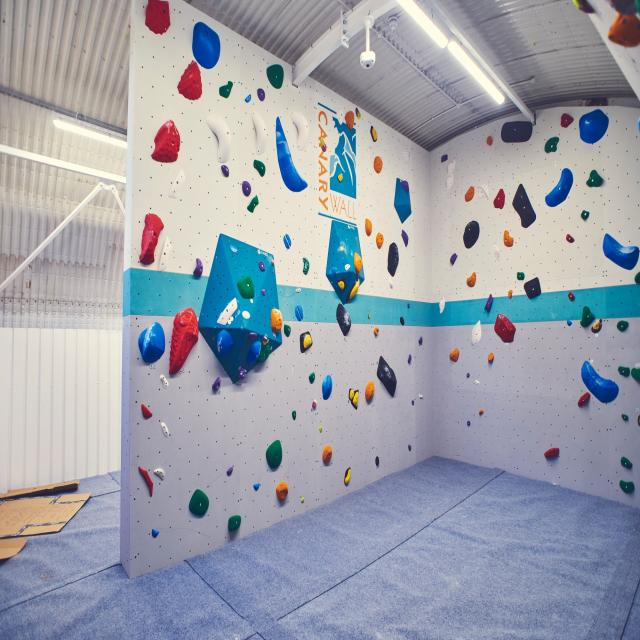hold: (276, 116, 308, 192), (169, 307, 199, 375), (581, 360, 619, 403), (602, 233, 639, 270), (192, 22, 220, 69), (139, 214, 164, 266), (150, 120, 180, 163), (206, 114, 231, 163), (545, 169, 574, 208), (138, 322, 165, 363), (512, 183, 536, 229), (607, 13, 639, 47), (177, 59, 202, 101), (579, 109, 609, 144), (376, 355, 397, 398), (145, 0, 170, 36), (289, 111, 309, 151), (395, 177, 411, 225), (500, 120, 533, 143), (251, 112, 266, 155), (494, 314, 516, 343), (216, 297, 238, 325), (188, 489, 209, 517), (168, 169, 187, 199), (157, 235, 172, 272), (265, 439, 282, 470), (336, 303, 351, 337), (463, 220, 480, 249), (216, 330, 234, 356), (138, 466, 153, 497), (236, 275, 255, 299), (266, 64, 284, 89), (609, 0, 638, 15), (387, 242, 399, 278), (524, 276, 542, 300), (580, 305, 596, 328), (246, 341, 261, 365), (270, 308, 283, 334), (346, 277, 360, 301), (572, 0, 596, 14), (586, 169, 603, 187), (300, 331, 313, 354), (544, 136, 560, 154), (471, 320, 482, 346), (276, 481, 289, 502), (493, 189, 505, 210), (322, 375, 332, 400), (253, 159, 266, 178), (219, 81, 233, 98), (353, 252, 363, 275), (247, 194, 259, 213), (619, 480, 635, 494), (258, 345, 270, 363), (365, 381, 375, 402), (560, 113, 574, 128), (228, 515, 241, 531), (484, 293, 494, 313), (193, 258, 203, 278), (345, 110, 355, 130), (578, 391, 590, 407), (477, 184, 489, 200), (591, 318, 603, 334), (373, 155, 383, 174), (503, 230, 514, 247), (620, 456, 633, 470), (446, 158, 456, 176), (322, 445, 332, 463), (464, 186, 475, 202), (449, 347, 460, 363), (351, 389, 359, 411), (141, 404, 152, 419), (466, 272, 476, 288), (616, 320, 629, 332), (618, 365, 630, 378), (375, 232, 384, 249), (401, 229, 409, 248), (544, 448, 559, 458), (446, 173, 454, 191), (302, 257, 310, 275), (242, 181, 251, 197), (212, 376, 221, 392), (154, 468, 165, 481), (161, 421, 169, 438), (160, 374, 169, 389), (365, 218, 372, 237), (344, 467, 351, 486), (630, 367, 639, 381), (493, 244, 500, 261), (370, 126, 377, 143), (320, 136, 327, 153), (238, 367, 247, 380), (296, 304, 303, 320), (401, 180, 409, 194), (580, 210, 590, 221), (221, 165, 230, 177), (450, 253, 458, 266), (257, 88, 265, 101), (402, 150, 411, 161), (151, 528, 160, 539), (283, 235, 290, 249), (284, 324, 291, 338), (439, 298, 445, 314), (308, 372, 316, 384), (295, 306, 301, 321), (566, 234, 575, 243), (516, 272, 525, 281), (285, 234, 291, 247), (348, 388, 354, 401), (355, 107, 361, 120), (258, 261, 265, 272), (242, 311, 251, 319), (249, 332, 257, 341), (634, 271, 639, 285), (226, 466, 233, 476), (486, 136, 493, 146), (338, 280, 345, 290), (568, 292, 575, 301), (244, 94, 251, 103), (441, 154, 448, 163), (488, 352, 494, 362), (337, 173, 343, 183), (262, 336, 268, 346), (621, 414, 629, 421), (253, 483, 260, 491), (508, 289, 513, 300), (373, 327, 379, 336), (389, 277, 393, 290), (407, 354, 412, 364), (400, 316, 405, 326), (344, 264, 351, 271), (331, 267, 338, 274), (375, 455, 379, 467), (418, 336, 423, 345), (312, 399, 317, 408), (292, 410, 296, 421), (261, 289, 266, 296), (479, 409, 484, 416), (567, 320, 572, 326), (295, 288, 301, 293), (475, 379, 480, 385), (467, 420, 471, 427), (466, 372, 470, 378), (340, 246, 344, 252), (408, 444, 411, 451), (272, 259, 275, 266), (419, 394, 423, 399), (407, 303, 410, 309), (411, 400, 414, 406), (301, 497, 304, 503), (319, 426, 322, 432), (368, 314, 370, 319)
volume: (197, 233, 283, 386), (325, 220, 364, 305)
